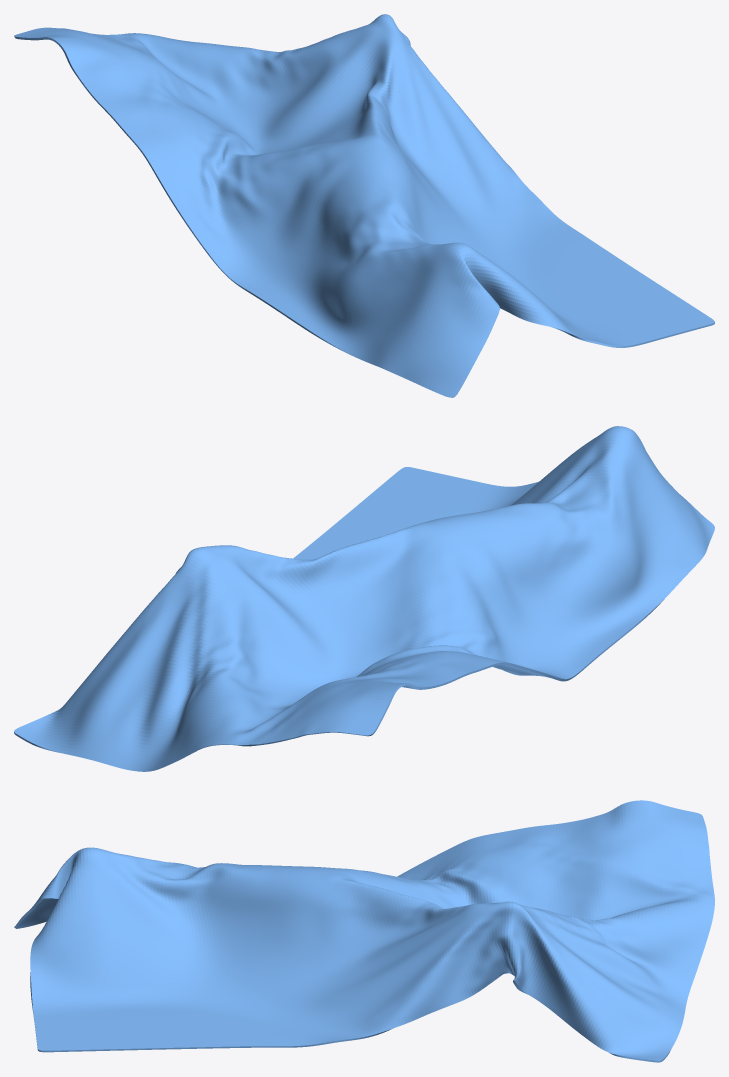
The model's file is tecido3.fbx.
3 views of the same model, one above another, from view 1: azimuth 30°, elevation 25°; view 2: azimuth 150°, elevation 25°; view 3: azimuth 270°, elevation 25° (orthographic). The views are drawn at different scales.
Visible parts, largest first — view 1: Plane.002; view 2: Plane.002; view 3: Plane.002.
Boxes of the visible parts, x1=… form: Plane.002: x1=14, y1=14, x2=714, y2=397; Plane.002: x1=14, y1=426, x2=714, y2=771; Plane.002: x1=14, y1=800, x2=714, y2=1062.
Size of the model in its own units: 226 by 82.15 by 426.
